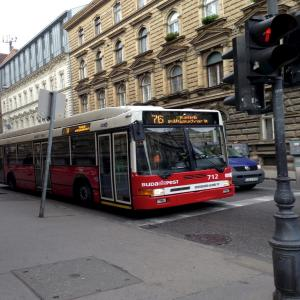Vehicle-registration-plate: (245, 177, 260, 182)
